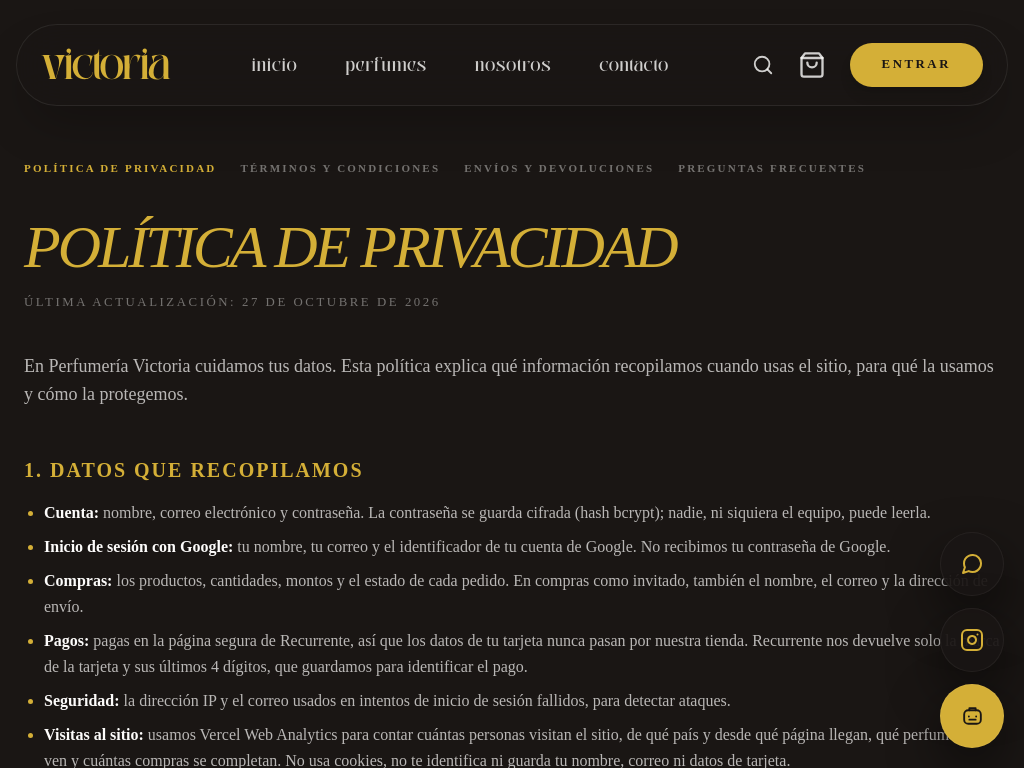
páginas legales › se puede navegar entre las tres páginas
Click the link "Envíos y devoluciones". click: click(559, 168)
box: top-left (464, 160), bottom-right (654, 176)
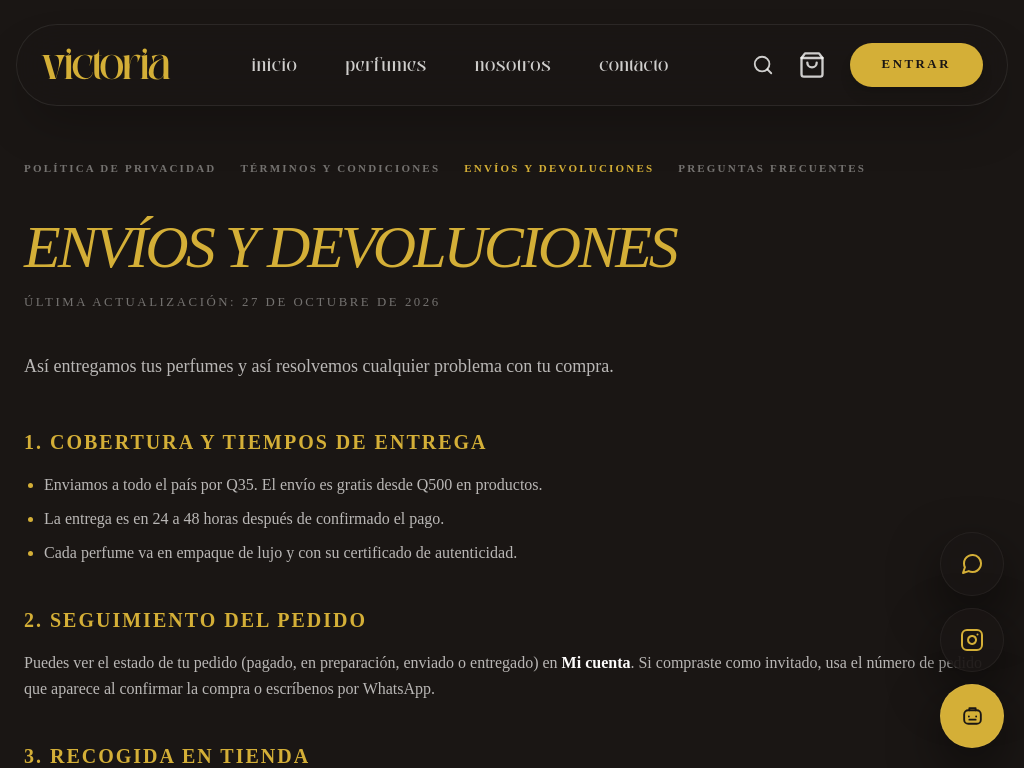
Check: the heading "Envíos y devoluciones" is shown, box top-left (24, 214), bottom-right (676, 280)
